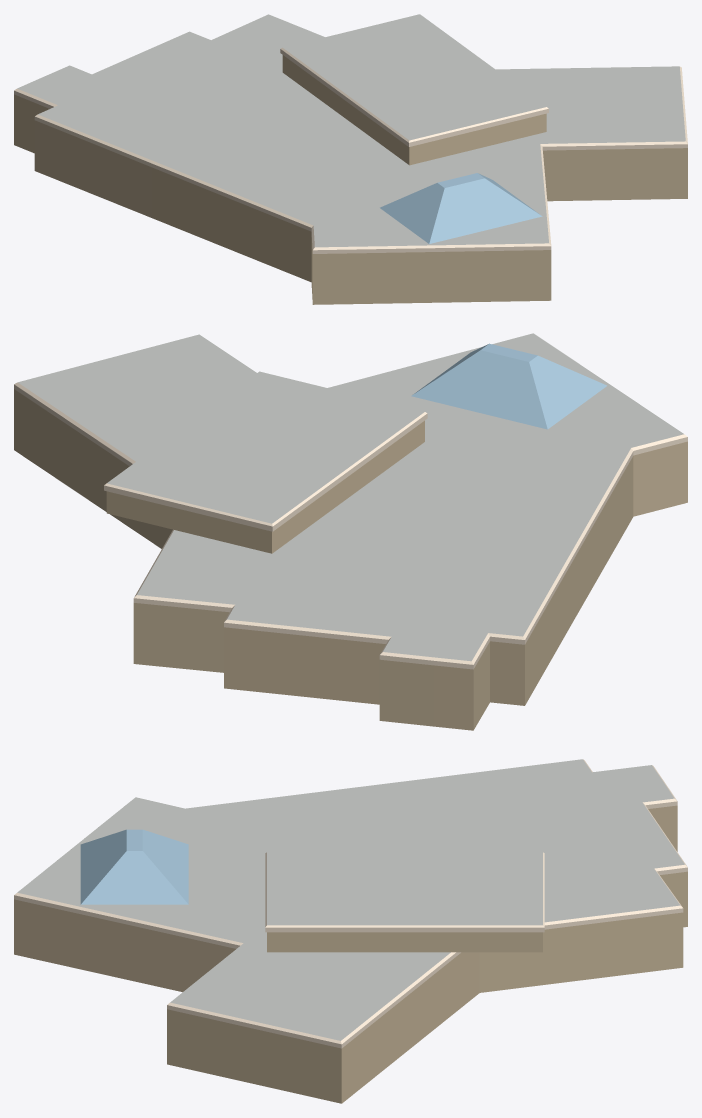
File: cola-riverbanks-zoo.glb
3 renders of one model, top to bottom at view 1: azimuth 30°, elevation 25°; view 2: azimuth 150°, elevation 25°; view 3: azimuth 270°, elevation 25°, orthographic. The views are drawn at different scales.
Visible parts, largest first — view 1: Riverbanks Zoo — Aquarium & Reptile Conservation Center; view 2: Riverbanks Zoo — Aquarium & Reptile Conservation Center; view 3: Riverbanks Zoo — Aquarium & Reptile Conservation Center.
Part boxes in pixels (box(x1,y1,x2,y2)): Riverbanks Zoo — Aquarium & Reptile Conservation Center: box(14, 14, 687, 304); Riverbanks Zoo — Aquarium & Reptile Conservation Center: box(14, 333, 687, 730); Riverbanks Zoo — Aquarium & Reptile Conservation Center: box(14, 759, 687, 1103).
Size of the model in its own units: 58.5 by 9.2 by 58.6.
